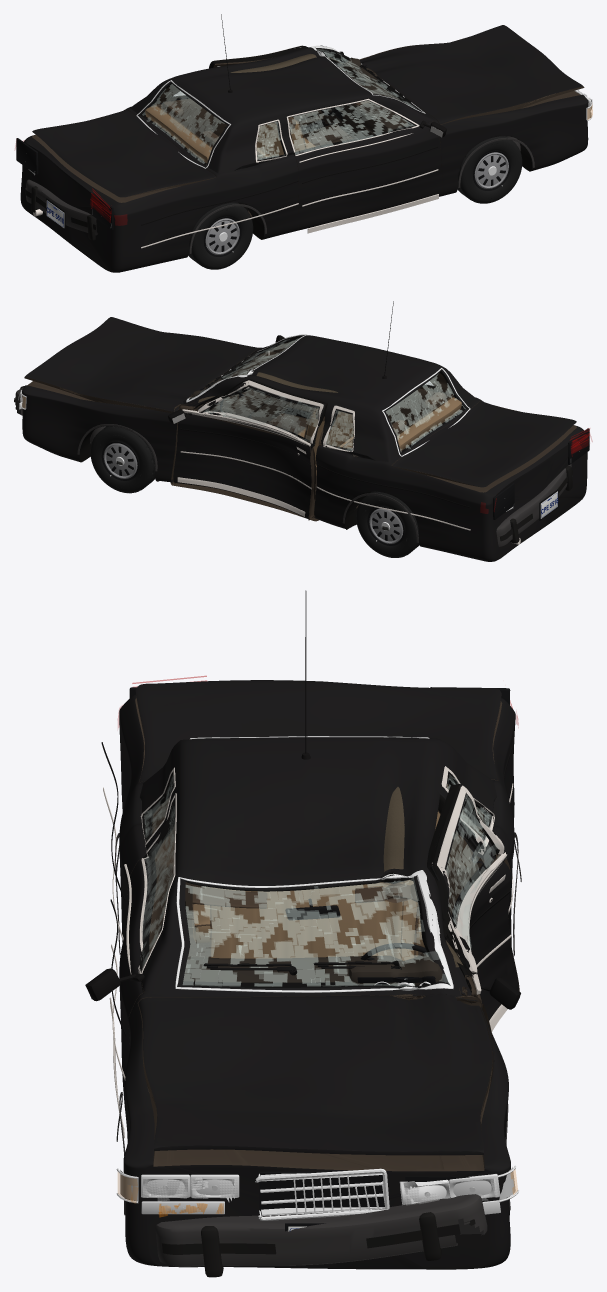
File: coupe84_side_d1.glb
The picture shows the model from 3 angles, top to bottom: view 1: azimuth 30°, elevation 25°; view 2: azimuth 150°, elevation 25°; view 3: azimuth 270°, elevation 25°; orthographic projection. The views are drawn at different scales.
Parts seen in each view (by area): view 1: Body, Hood, Door_FR, Trunk, Interior, Glass, Wheel_FR_mesh, Wheel_RR_mesh, Glass_FR, Trim_FR, Trim, Ends (+4 smaller); view 2: Body, Hood, Door_FL, Trunk, Interior, Glass, Wheel_FL_mesh, Trim_FL, Wheel_RL_mesh, Glass_FL, Trim, Bumper_R (+2 smaller); view 3: Body, Hood, Trunk, Interior, Glass, Bumper_F, Ends, Door_FL, Door_FR, Trim_FL, Trim, Glass_FL (+3 smaller).
Boxes of the visible parts, x1,y1,x2,y2 form: Body: (20,45,588,272); Hood: (359,25,584,124); Door_FR: (286,98,442,230); Trunk: (32,109,216,197); Interior: (145,58,411,162); Glass: (136,45,425,168); Wheel_FR_mesh: (457,136,522,203); Wheel_RR_mesh: (188,202,253,269); Glass_FR: (286,99,415,156); Trim_FR: (286,98,446,233); Trim: (141,14,534,253); Ends: (16,90,592,230); Body: (22,335,587,561); Hood: (24,317,259,412); Door_FL: (173,379,327,520); Trunk: (392,400,576,487); Interior: (191,355,461,475); Glass: (186,334,470,456); Wheel_FL_mesh: (90,426,155,493); Trim_FL: (168,380,323,516); Wheel_RL_mesh: (356,491,419,557); Glass_FL: (200,379,324,447); Trim: (77,301,470,542); Bumper_R: (496,463,575,546); Body: (119,694,515,1269); Hood: (138,993,492,1155); Trunk: (135,680,501,782); Interior: (183,784,448,986); Glass: (144,736,493,992); Bumper_F: (155,1194,487,1277); Ends: (116,687,519,1231); Door_FL: (427,784,519,1020); Door_FR: (119,792,177,1123); Trim_FL: (432,785,520,1031); Trim: (101,590,521,1215); Glass_FL: (430,795,507,974).
Size of the model in its own units: 5.18 by 2.1 by 1.95.
Materials: 34 (5 with a texture image).
